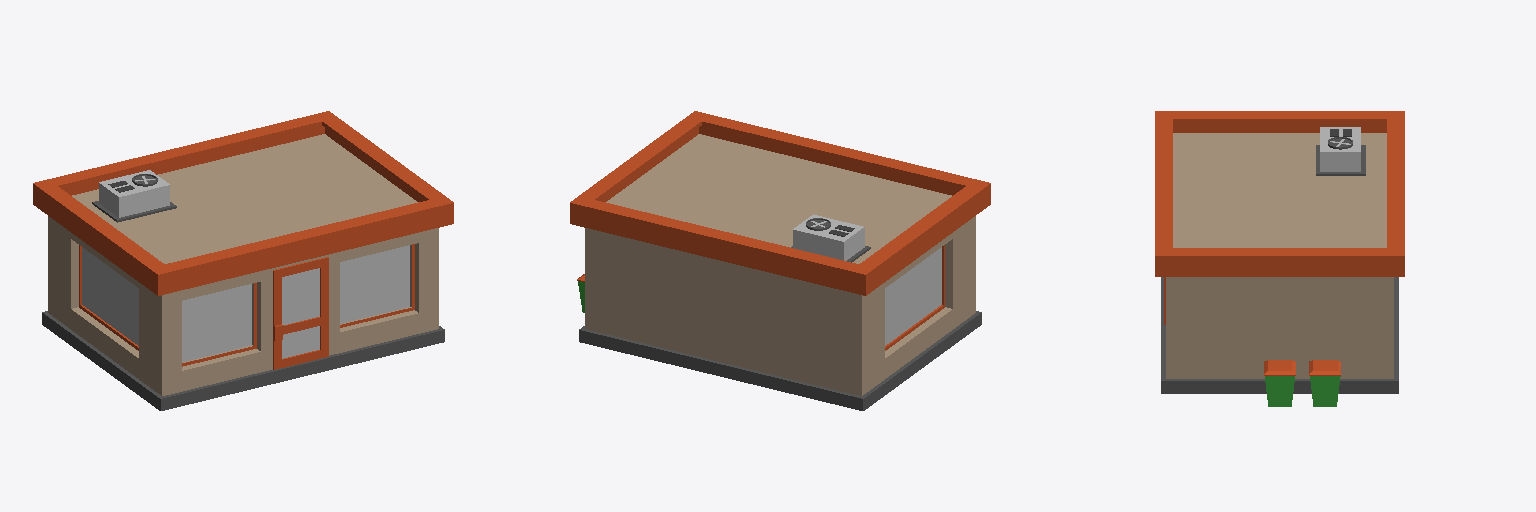
The model's file is TiendaPequeña.obj.
3 views of the same model, side by side, from view 1: azimuth 30°, elevation 25°; view 2: azimuth 150°, elevation 25°; view 3: azimuth 270°, elevation 25° (orthographic).
Visible parts, largest first — view 1: ??????, ?????, Box004; view 2: ??????, Box004; view 3: ??????, Box004, Box009, Box001.
Boxes of the visible parts, x1,y1,x2,y2 form: ??????: [33, 111, 453, 410]; ?????: [273, 257, 328, 369]; Box004: [99, 170, 169, 217]; ??????: [570, 111, 990, 410]; Box004: [793, 214, 864, 260]; ??????: [1155, 111, 1404, 393]; Box004: [1320, 127, 1360, 171]; Box009: [1310, 376, 1340, 406]; Box001: [1265, 376, 1294, 406].
Bounding box in the file's own units: 8.13 × 3.6 × 5.5.